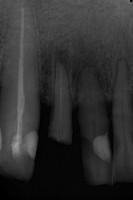Furcation Involvement: (38, 33, 114, 105)
